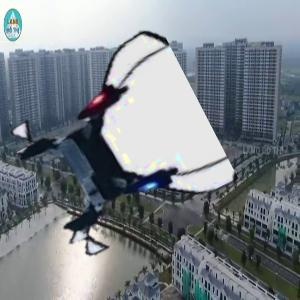drone: (19, 55, 213, 249)
